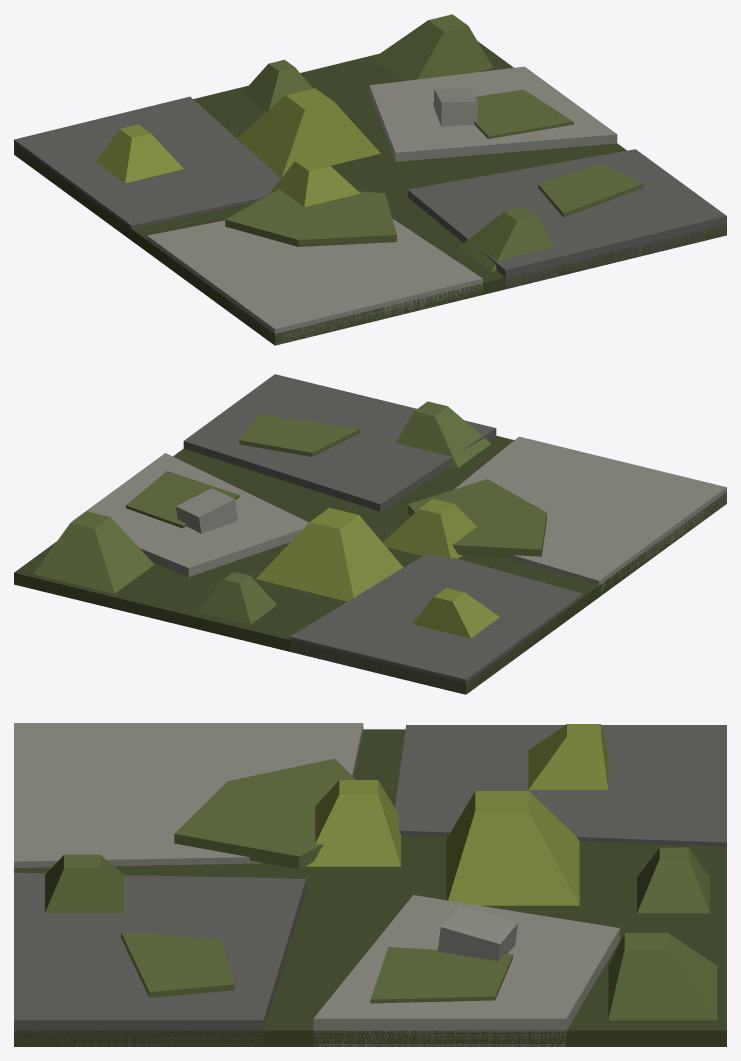
File: ground_tile_overgrown.glb
3 renders of one model, top to bottom at view 1: azimuth 30°, elevation 25°; view 2: azimuth 150°, elevation 25°; view 3: azimuth 270°, elevation 25°, orthographic. The views are drawn at different scales.
Visible parts, largest first — view 1: ground_tile_mesh; view 2: ground_tile_mesh; view 3: ground_tile_mesh.
Boxes of the visible parts, bbox=[...] form: ground_tile_mesh: bbox=[14, 14, 726, 345]; ground_tile_mesh: bbox=[14, 374, 726, 694]; ground_tile_mesh: bbox=[14, 723, 726, 1046].
Size of the model in its own units: 2 by 0.27 by 2.
